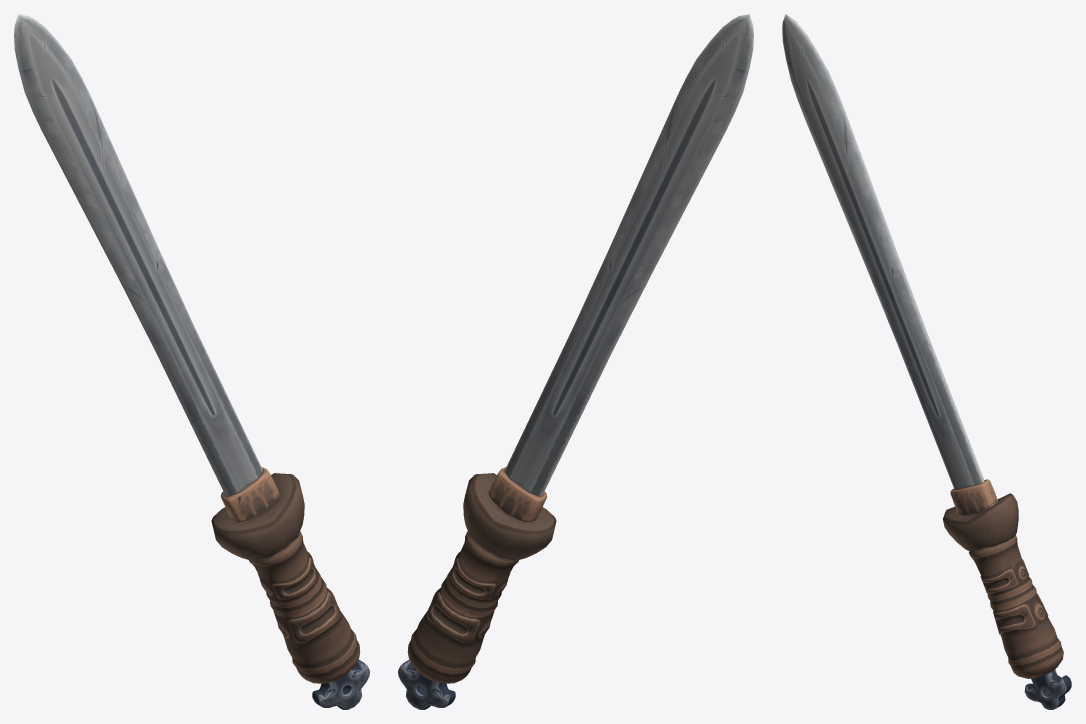
3 renders of one model, left to right at view 1: azimuth 30°, elevation 25°; view 2: azimuth 150°, elevation 25°; view 3: azimuth 330°, elevation 25°, orthographic. The views are drawn at different scales.
Parts seen in each view (by area): view 1: sw6_common; view 2: sw6_common; view 3: sw6_common.
Boxes of the visible parts, <box> form: sw6_common: <box>14,14,369,709</box>; sw6_common: <box>398,14,753,709</box>; sw6_common: <box>782,14,1071,709</box>.
Size of the model in its own units: 29.68 by 62.08 by 5.11.
Materials: 1 (1 with a texture image).
